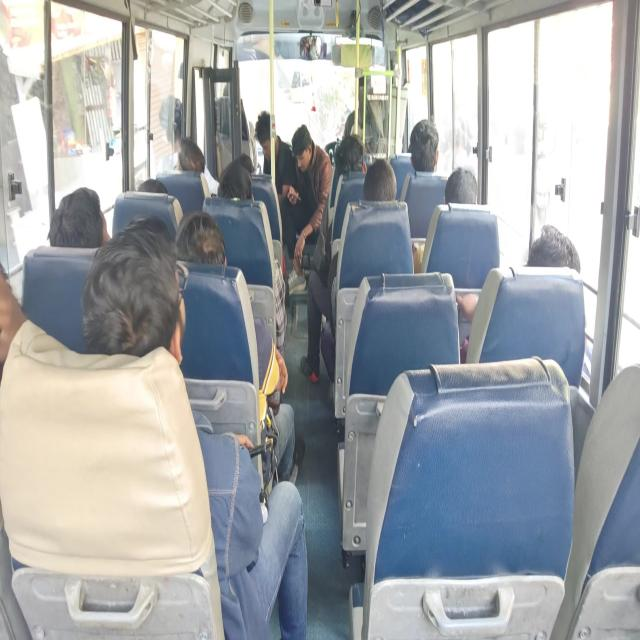person: (85, 231, 236, 419), (524, 223, 586, 308), (41, 188, 90, 240), (175, 205, 213, 266), (294, 138, 335, 184), (353, 153, 390, 194), (406, 134, 445, 170), (253, 117, 287, 157), (224, 173, 256, 213), (442, 171, 476, 206), (164, 107, 190, 151), (339, 138, 367, 172), (145, 173, 172, 207), (179, 153, 206, 181), (231, 150, 258, 177)
